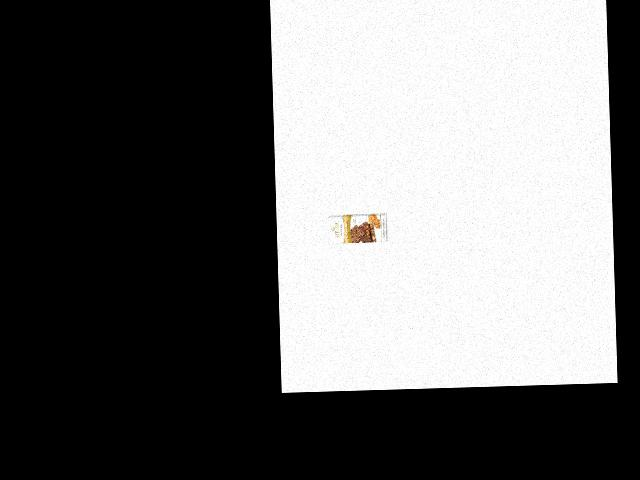chocolate: (325, 211, 389, 244)
